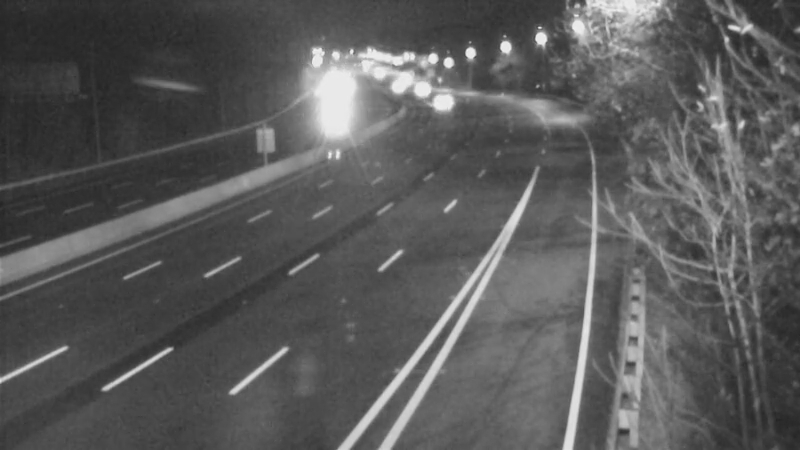vehicle: (349, 46, 399, 96), (372, 60, 422, 110), (396, 61, 446, 111), (410, 75, 460, 125), (304, 94, 354, 144)
